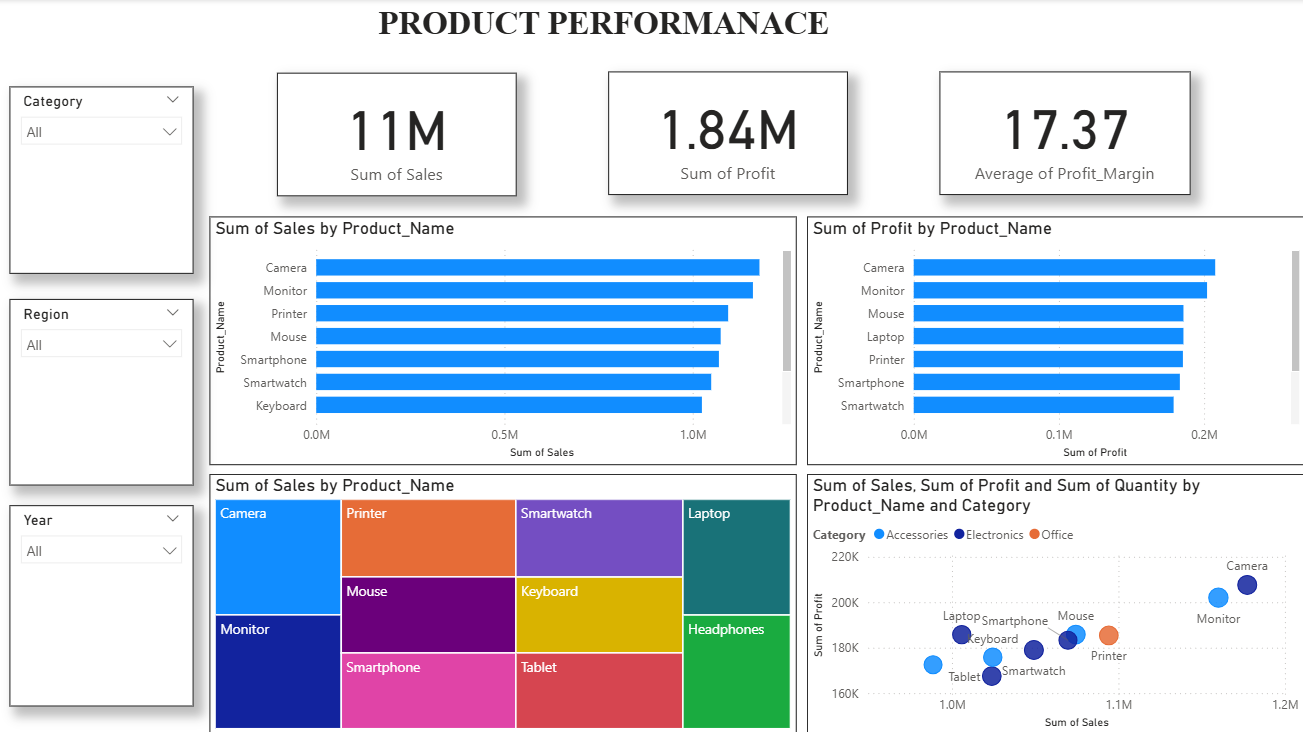

What the dashboard file says about the page in this screenshot:
{"tool":"powerbi","page":{"name":" PRODUCT PERFORMANACE","canvas":[1280,720],"ordinal":1},"visuals":[{"type":"textbox","box":[289.5,13.7,279.9,72.7],"z":1000},{"type":"textbox","box":[0,13.7,1280.3,72.7],"z":2000},{"type":"textbox","box":[290,424,280,280],"z":3000},{"type":"textbox","box":[0,0,1280.3,72.7],"z":4000},{"type":"card","fields":{"Values":["Sum(ecommerce_sales_cleaned.Profit)"]},"box":[598,70.9,234.8,121.1],"z":5000},{"type":"card","fields":{"Values":["Avg(ecommerce_sales_cleaned.Profit_Margin)"]},"box":[922,70.9,245.8,121.1],"z":6000},{"type":"clusteredBarChart","fields":{"Category":["ecommerce_sales_cleaned.Product_Name"],"Y":["Sum(ecommerce_sales_cleaned.Sales)"]},"box":[207.9,212.8,574.7,243.3],"z":7000},{"type":"clusteredBarChart","fields":{"Category":["ecommerce_sales_cleaned.Product_Name"],"Y":["Sum(ecommerce_sales_cleaned.Profit)"]},"box":[792.4,212.8,487.9,243.3],"z":8000},{"type":"treemap","fields":{"Values":["Sum(ecommerce_sales_cleaned.Sales)"],"Group":["ecommerce_sales_cleaned.Product_Name"]},"box":[207.9,464.7,574.7,255.6],"z":9000},{"type":"scatterChart","fields":{"X":["Sum(ecommerce_sales_cleaned.Sales)"],"Y":["Sum(ecommerce_sales_cleaned.Profit)"],"Series":["ecommerce_sales_cleaned.Category"],"Size":["Sum(ecommerce_sales_cleaned.Quantity)"],"Category":["ecommerce_sales_cleaned.Product_Name"]},"box":[792.4,464.7,487.9,255.6],"z":10000},{"type":"slicer","fields":{"Values":["ecommerce_sales_cleaned.Category"]},"box":[12.2,85.6,179.8,183.4],"z":11000},{"type":"card","fields":{"Values":["Sum(ecommerce_sales_cleaned.Sales)"]},"box":[273.9,72.1,234.8,121.1],"z":12000},{"type":"slicer","fields":{"Values":["ecommerce_sales_cleaned.Region"]},"box":[12.2,293.5,179.8,182.2],"z":12001},{"type":"slicer","fields":{"Values":["ecommerce_sales_cleaned.Year"]},"box":[12.2,495.2,179.8,196.9],"z":12002}]}

Visuals, with their boxes in screenshot pixels (x1, y1, x2, y2), scaled from the page's 1280x720 canvas onto the 1303x732 screenshot:
textbox: rect(295, 14, 580, 88)
textbox: rect(0, 14, 1302, 88)
textbox: rect(295, 431, 580, 716)
textbox: rect(0, 0, 1302, 74)
card - Sum(ecommerce_sales_cleaned.Profit): rect(609, 72, 848, 195)
card - Avg(ecommerce_sales_cleaned.Profit_Margin): rect(939, 72, 1189, 195)
clusteredBarChart - ecommerce_sales_cleaned.Product_Name x Sum(ecommerce_sales_cleaned.Sales): rect(212, 216, 797, 464)
clusteredBarChart - ecommerce_sales_cleaned.Product_Name x Sum(ecommerce_sales_cleaned.Profit): rect(807, 216, 1302, 464)
treemap - Sum(ecommerce_sales_cleaned.Sales) x ecommerce_sales_cleaned.Product_Name: rect(212, 472, 797, 731)
scatterChart - Sum(ecommerce_sales_cleaned.Sales) x Sum(ecommerce_sales_cleaned.Profit): rect(807, 472, 1302, 731)
slicer - ecommerce_sales_cleaned.Category: rect(12, 87, 195, 273)
card - Sum(ecommerce_sales_cleaned.Sales): rect(279, 73, 518, 196)
slicer - ecommerce_sales_cleaned.Region: rect(12, 298, 195, 484)
slicer - ecommerce_sales_cleaned.Year: rect(12, 503, 195, 704)
